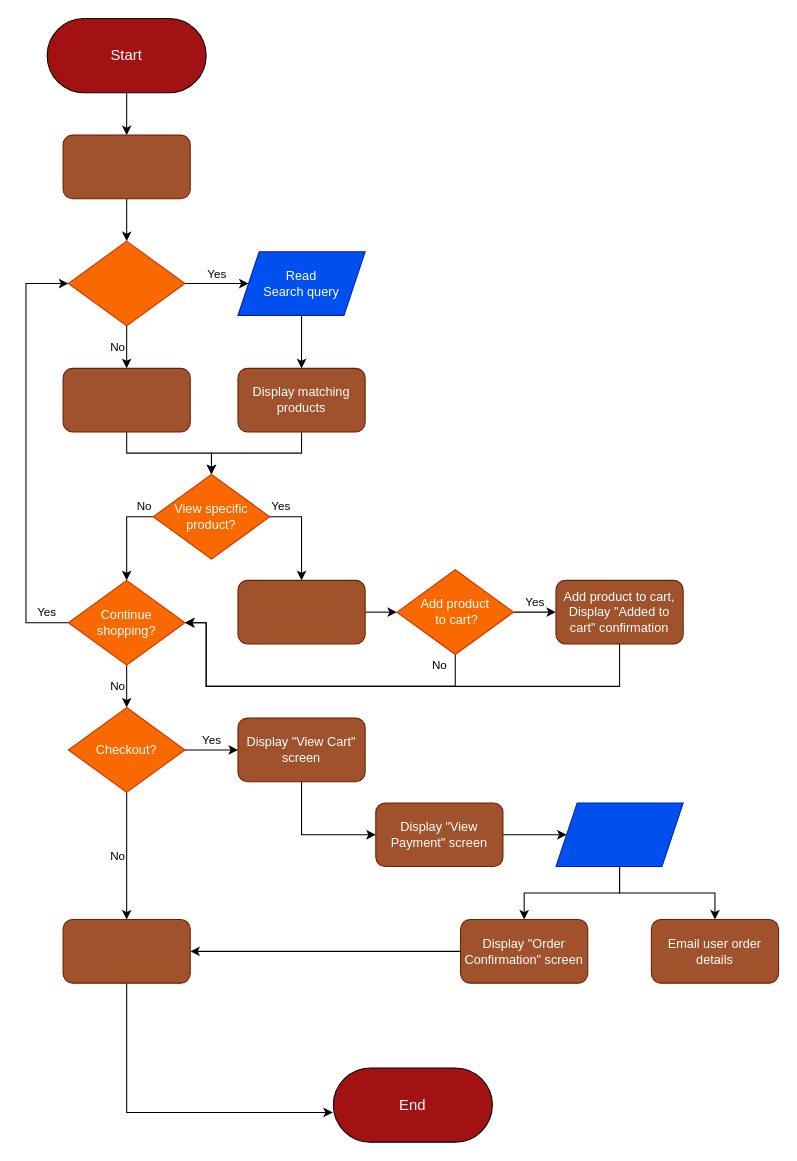
Image size: 797x1161. Some labels were removed from this diagram. Each missing label, with the centre of its shape:
"Display home page products" belongs at (126,399).
"Open product's webpage" belongs at (301,611).
"Read Payment information" belongs at (619,834).
"Search" belongs at (126,283).
"User enters website" belongs at (126,166).
"User leaves website" belongs at (126,950).
